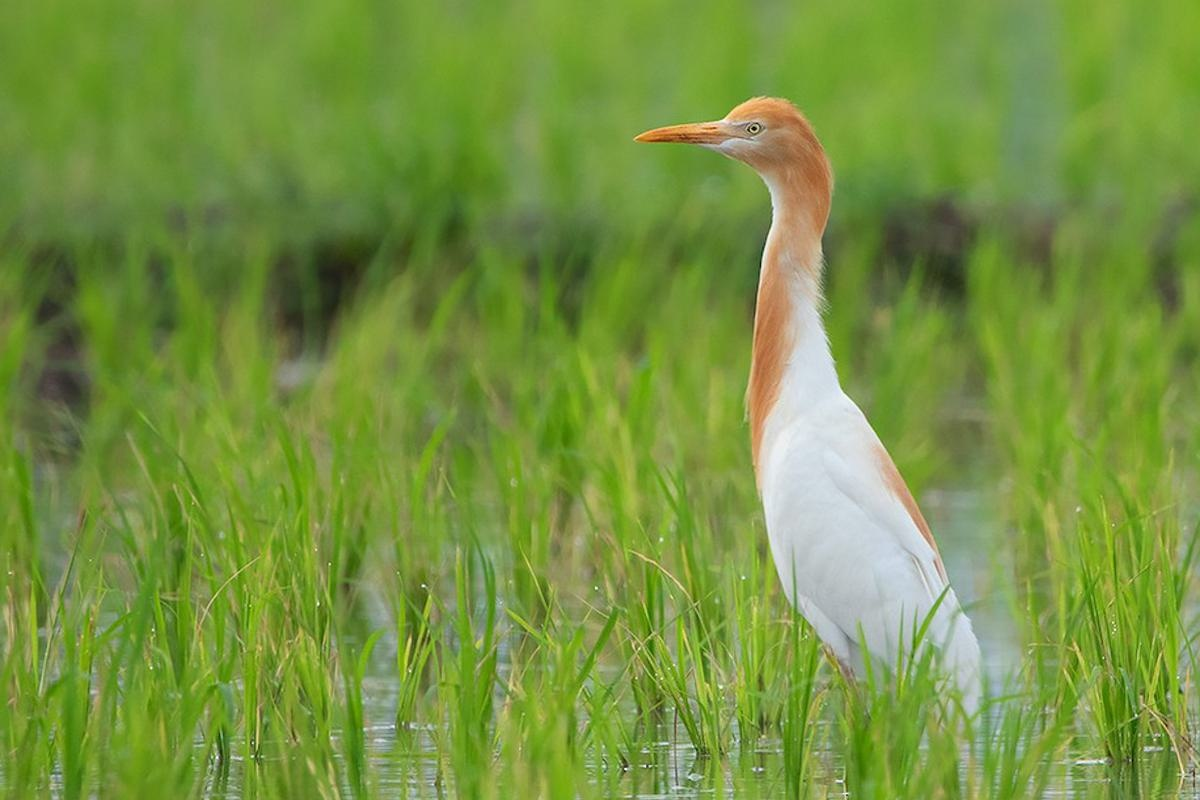egret: (628, 76, 998, 693)
